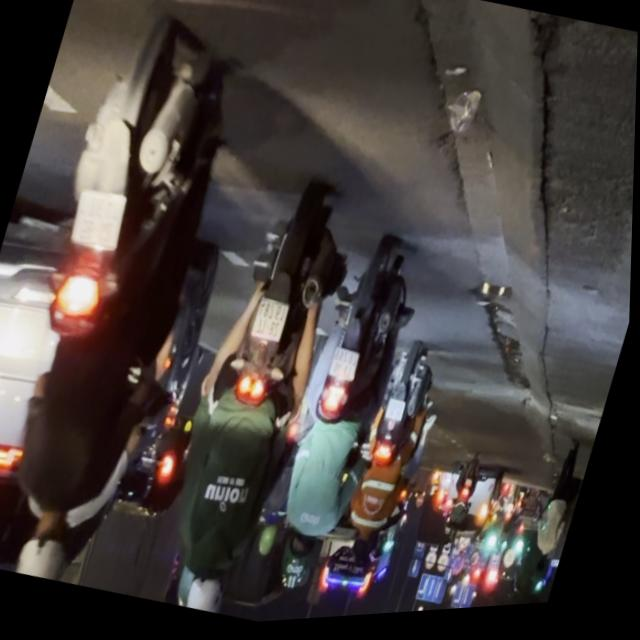helmet: (15, 506, 82, 584), (276, 534, 321, 598), (184, 563, 233, 618)
licenseplate: (0, 0, 270, 599), (143, 174, 368, 627), (251, 236, 432, 609)
nohelmet: (66, 187, 130, 256), (250, 300, 291, 348), (328, 351, 362, 389)
